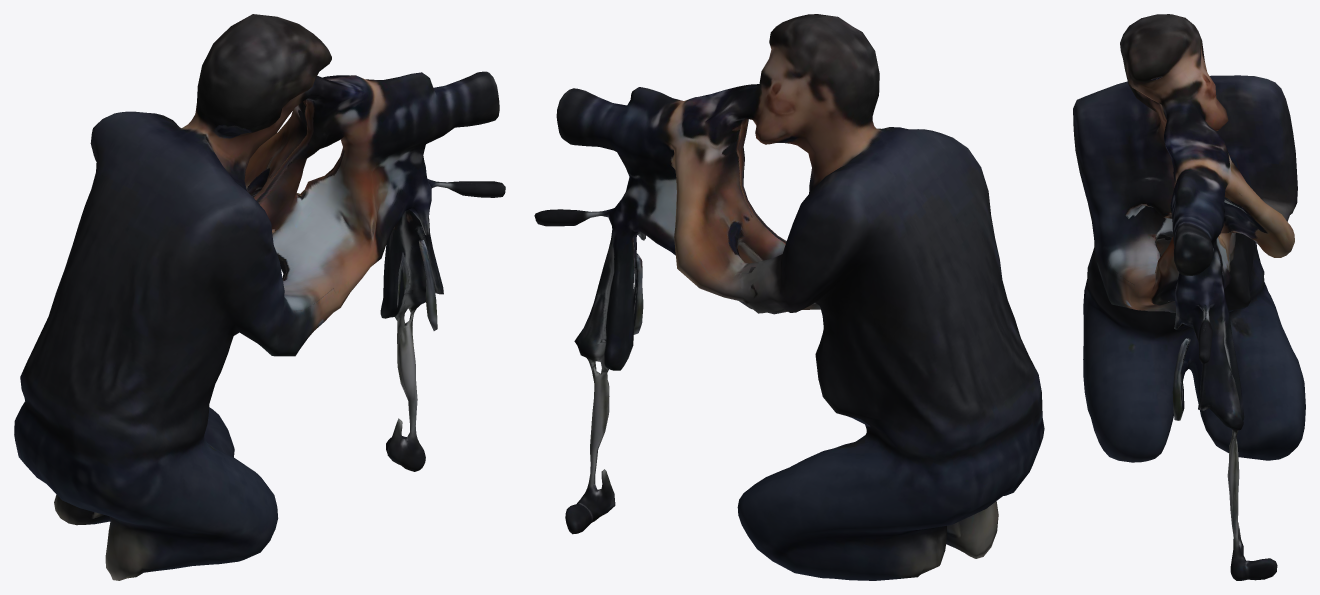
File: b65a588e5d14_a_photographer__3d_.obj
3 renders of one model, left to right at view 1: azimuth 30°, elevation 25°; view 2: azimuth 150°, elevation 25°; view 3: azimuth 270°, elevation 25°, orthographic. The views are drawn at different scales.
Parts seen in each view (by area): view 1: mesh; view 2: mesh; view 3: mesh.
Part boxes in pixels (<box>): mesh: <box>14,14,505,580</box>; mesh: <box>534,14,1044,580</box>; mesh: <box>1073,14,1305,580</box>.
Size of the model in its own units: 0.9468 by 0.9986 by 0.4394.
Materials: 1 (1 with a texture image).
